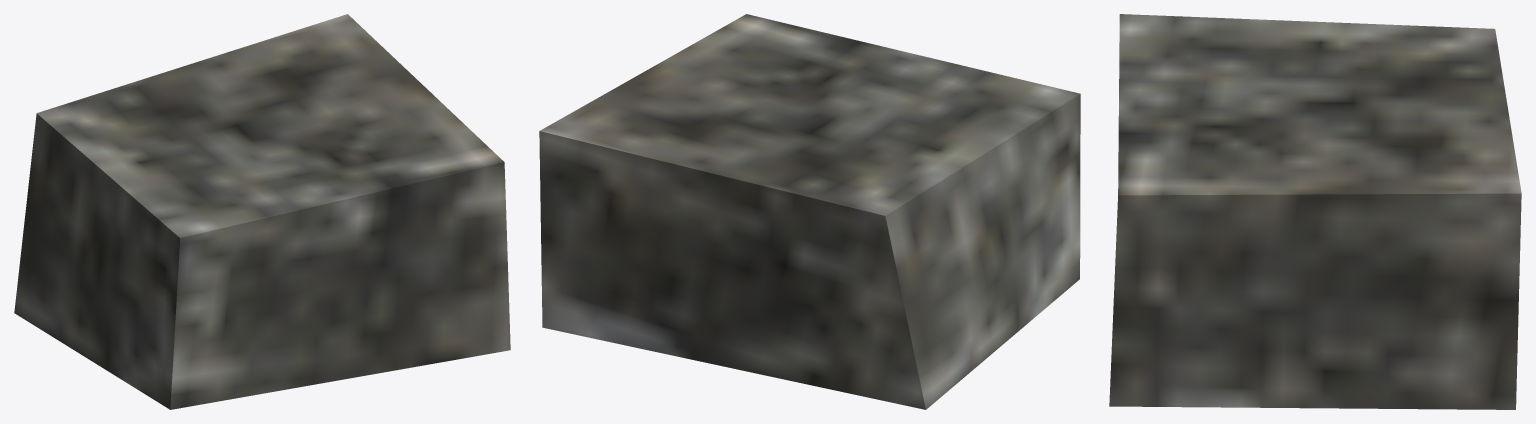
The model's file is Brick2C_LOD1.fbx.
3 views of the same model, side by side, from view 1: azimuth 30°, elevation 25°; view 2: azimuth 150°, elevation 25°; view 3: azimuth 270°, elevation 25° (orthographic). The views are drawn at different scales.
Parts seen in each view (by area): view 1: pasted__polySurface19; view 2: pasted__polySurface19; view 3: pasted__polySurface19.
Part boxes in pixels (x1=…): pasted__polySurface19: x1=14, y1=14, x2=510, y2=409; pasted__polySurface19: x1=539, y1=14, x2=1080, y2=409; pasted__polySurface19: x1=1109, y1=14, x2=1521, y2=409.
Bounding box in the file's own units: 0.6791 × 0.3636 × 0.6067.
